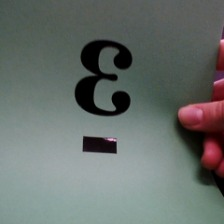green3: (73, 36, 146, 163)
